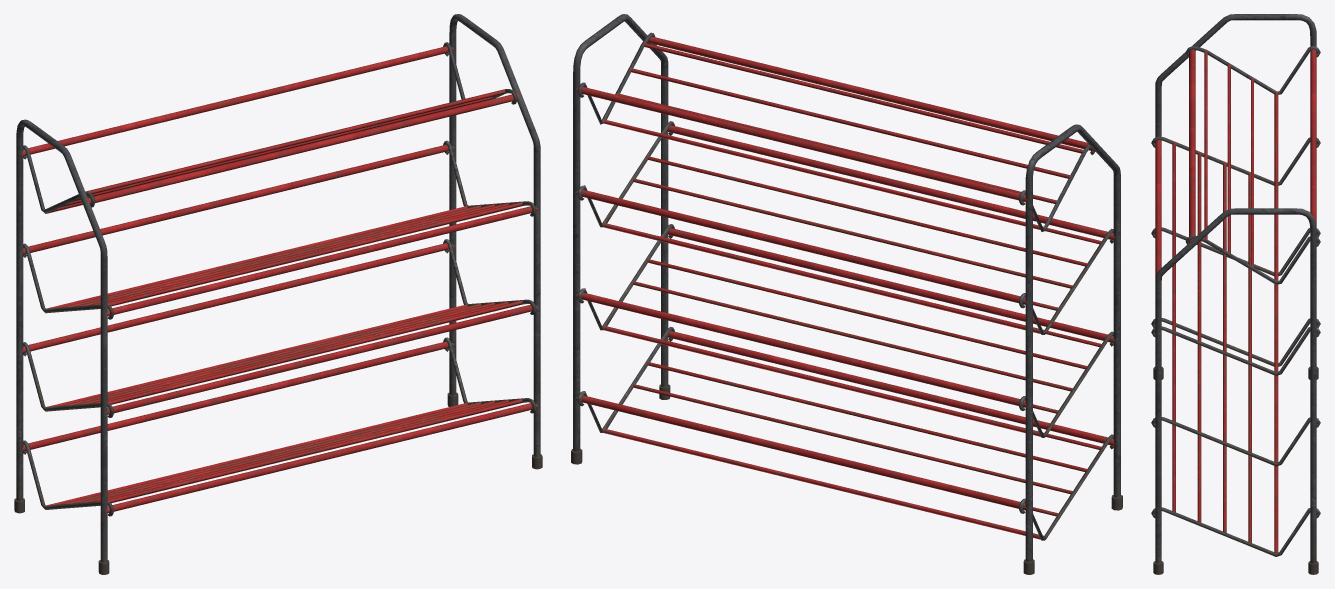
Rendered from shoeRack02.FBX.
3 views of the same model, side by side, from view 1: azimuth 30°, elevation 25°; view 2: azimuth 150°, elevation 25°; view 3: azimuth 270°, elevation 25° (orthographic). The views are drawn at different scales.
Visible parts, largest first — view 1: SM_ShoeRack02; view 2: SM_ShoeRack02; view 3: SM_ShoeRack02.
Boxes of the visible parts, x1=… form: SM_ShoeRack02: x1=14, y1=14, x2=542, y2=574; SM_ShoeRack02: x1=571, y1=14, x2=1122, y2=574; SM_ShoeRack02: x1=1151, y1=14, x2=1320, y2=574.
Size of the model in its own units: 80.13 by 68.55 by 28.94.
Materials: 1 (1 with a texture image).
